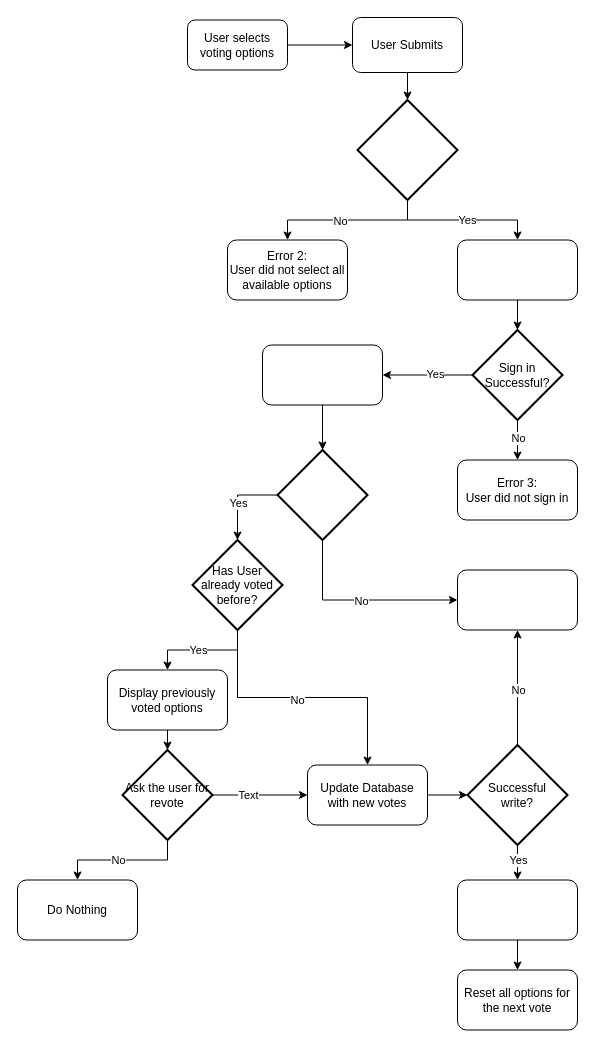
The diagram is 595 pixels wide and 1048 high, and some of its shapes have lost their labels. Here are the shapes that lost their labels. From the top down, the centre of each, then its label:
pixel 407 149: Submission Successful?
pixel 517 269: Proceed to sign in screen
pixel 322 374: Check if User's information is already in the database
pixel 322 494: Successful read?
pixel 517 599: Error 2: Server Error
pixel 517 909: Update displayed graph
